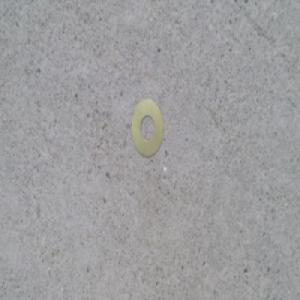Washer: (131, 97, 166, 157)
